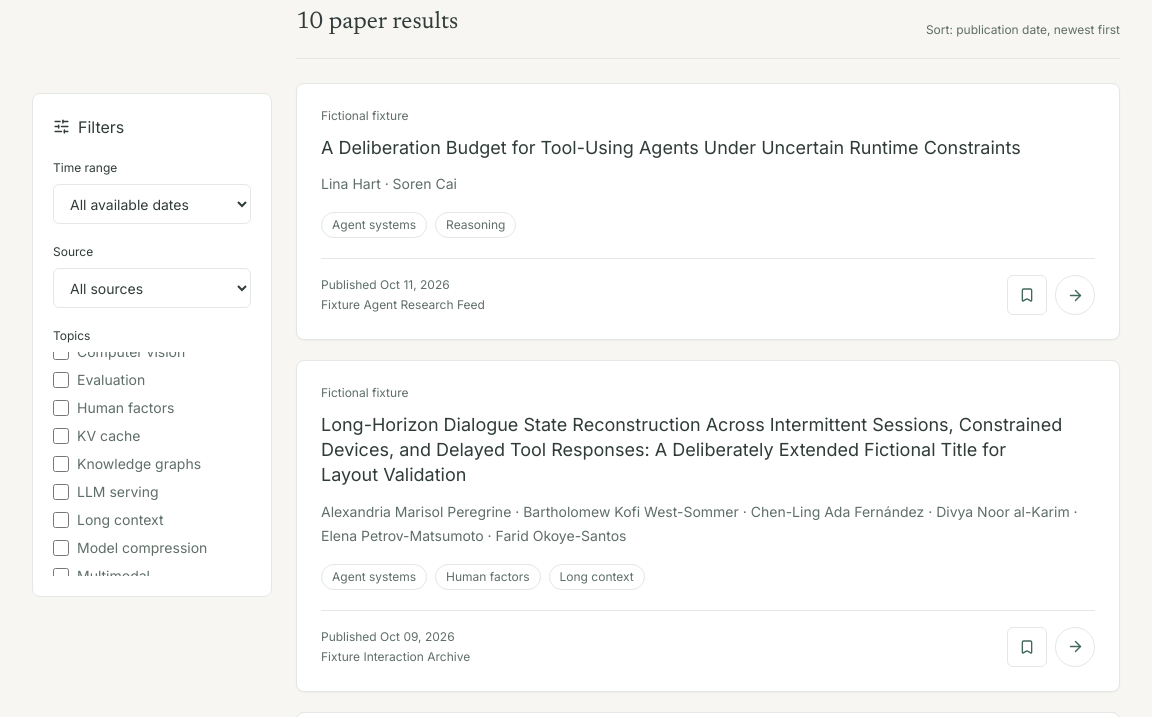
paper discovery and detail navigation › reflects topic filters in the URL and result set
This screenshot has width=1152, height=717.
(page scrolled)
Expected: the heading "10 paper results" is shown, [296,6,458,38]
Click the checkbox labelled "Knowledge graphs" at (61, 464), box [53,456,69,472]
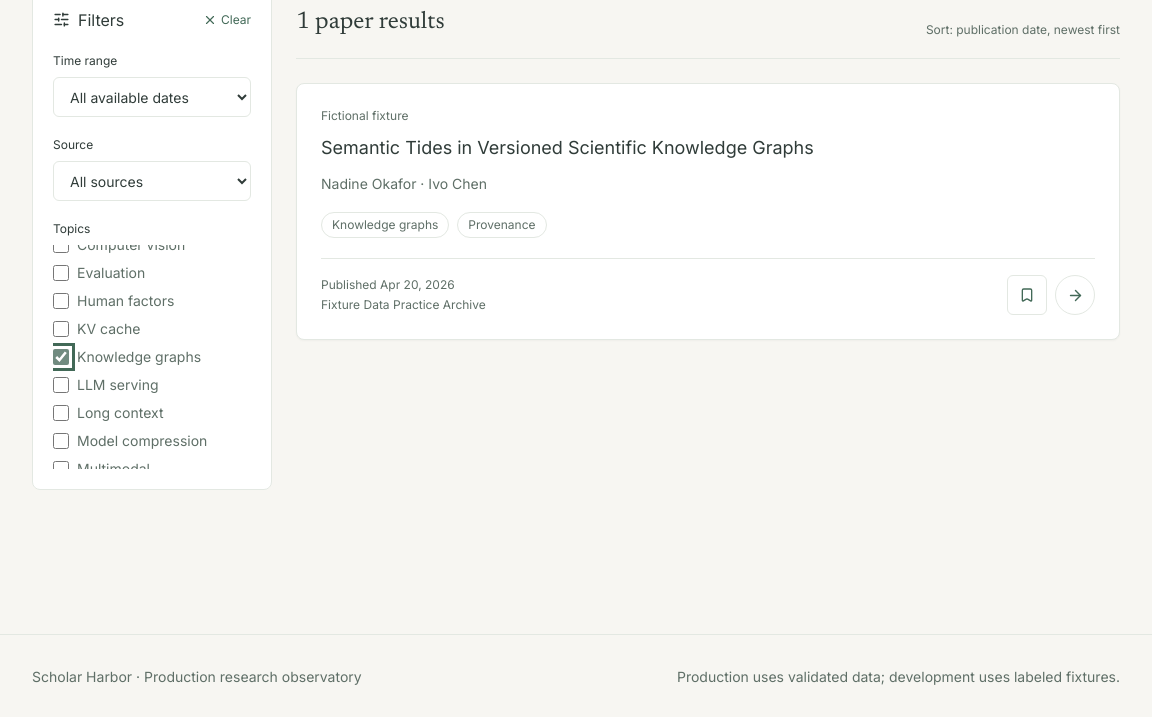
Result: the heading "1 paper results" is shown at [296,6,445,38]
